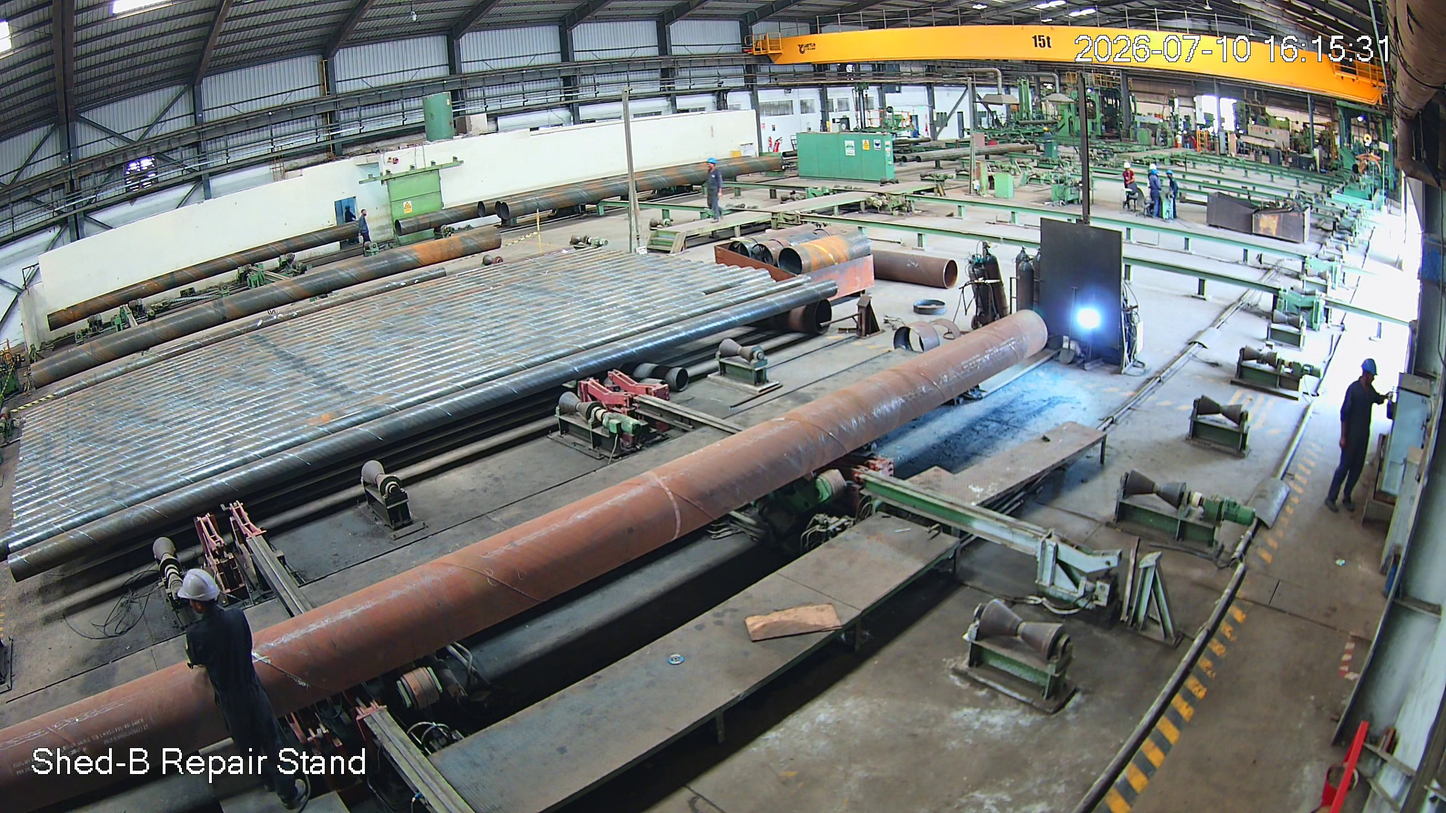Helmet: (173, 568, 224, 621), (1357, 351, 1386, 390), (705, 157, 721, 173), (1123, 161, 1137, 174), (1166, 168, 1174, 179), (1152, 168, 1159, 178)
Person: (166, 572, 310, 813), (1329, 357, 1386, 523), (700, 159, 728, 229), (1120, 163, 1140, 206), (1166, 170, 1180, 219), (356, 209, 373, 246), (1148, 169, 1161, 216)
